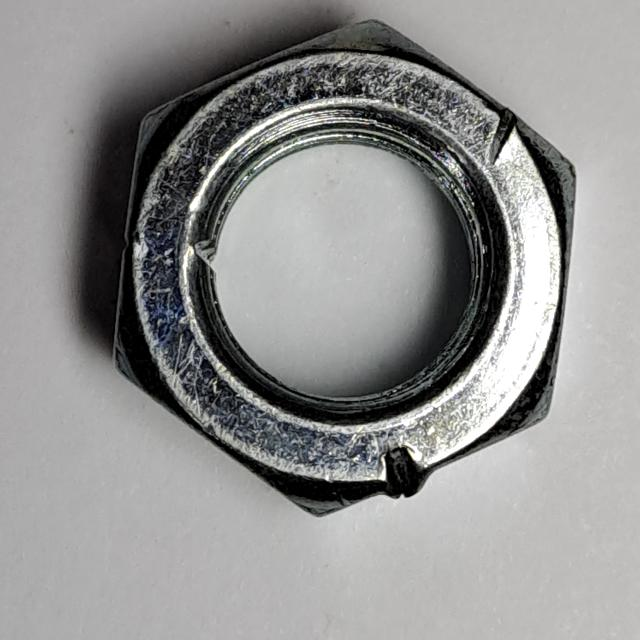Scratches: (106, 10, 586, 530)
